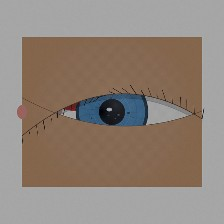hemorrhage_spot: (43, 67, 130, 137)
